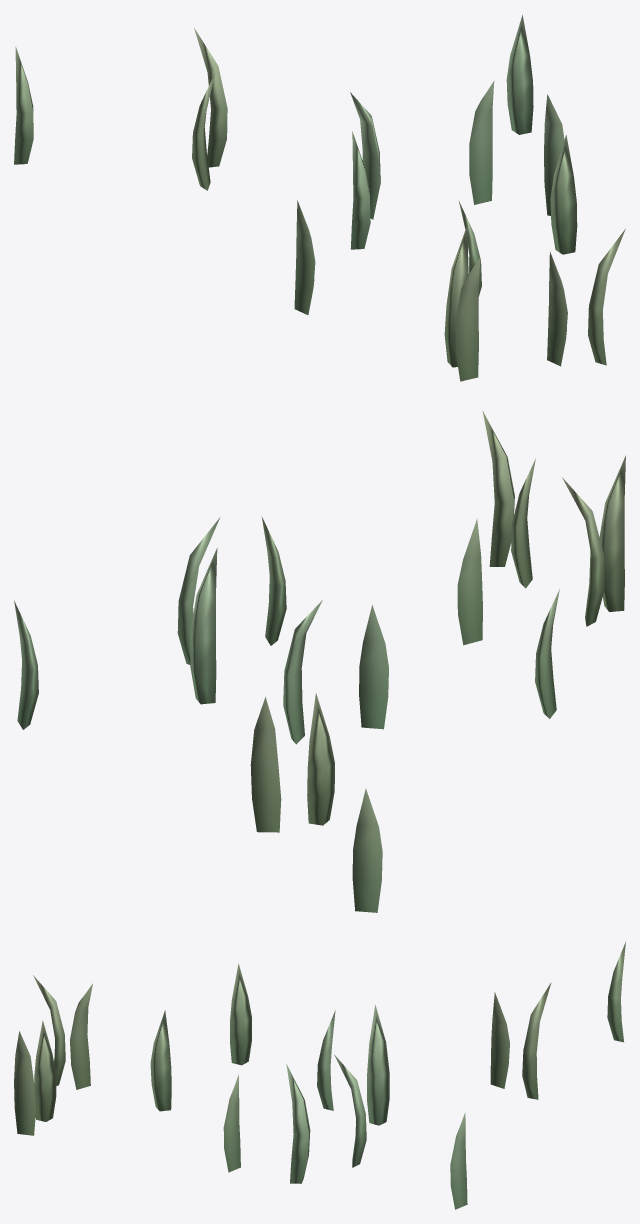
Rendered from SM_Grass_01.fbx.
3 views of the same model, one above another, from view 1: azimuth 30°, elevation 25°; view 2: azimuth 150°, elevation 25°; view 3: azimuth 270°, elevation 25° (orthographic). The views are drawn at different scales.
Visible parts, largest first — view 1: SM_Grass_01; view 2: SM_Grass_01; view 3: SM_Grass_01.
Boxes of the visible parts, left/top/right/bottom form: SM_Grass_01: left=14, top=15, right=625, bottom=381; SM_Grass_01: left=14, top=410, right=625, bottom=912; SM_Grass_01: left=14, top=941, right=625, bottom=1209.
Bounding box in the file's own units: 217 × 64.7 × 320.
Materials: 1 (1 with a texture image).
